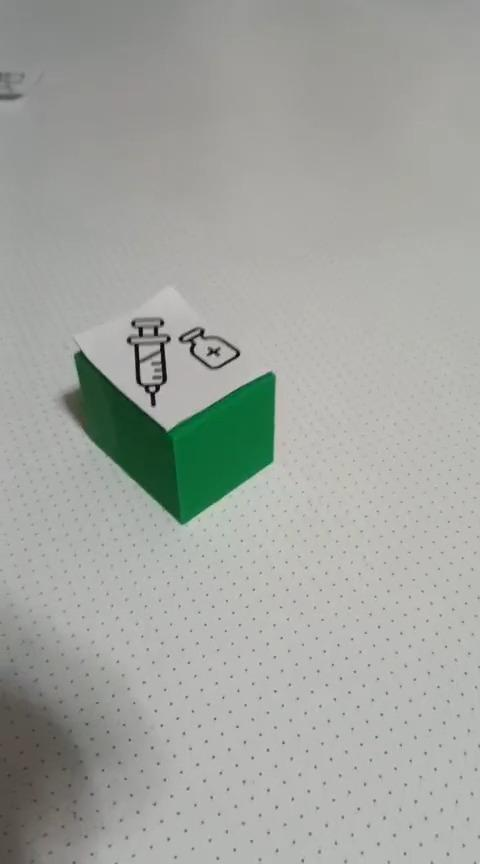antiseptic cream: (70, 283, 277, 525)
